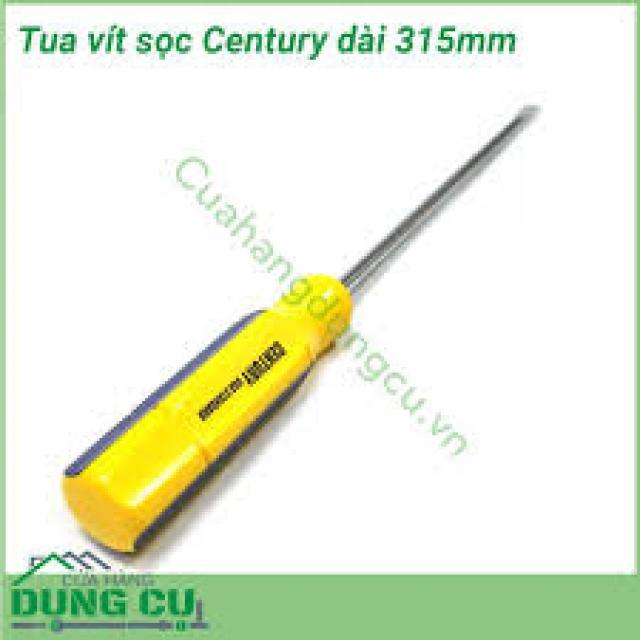screwdriver: (58, 95, 550, 565)
